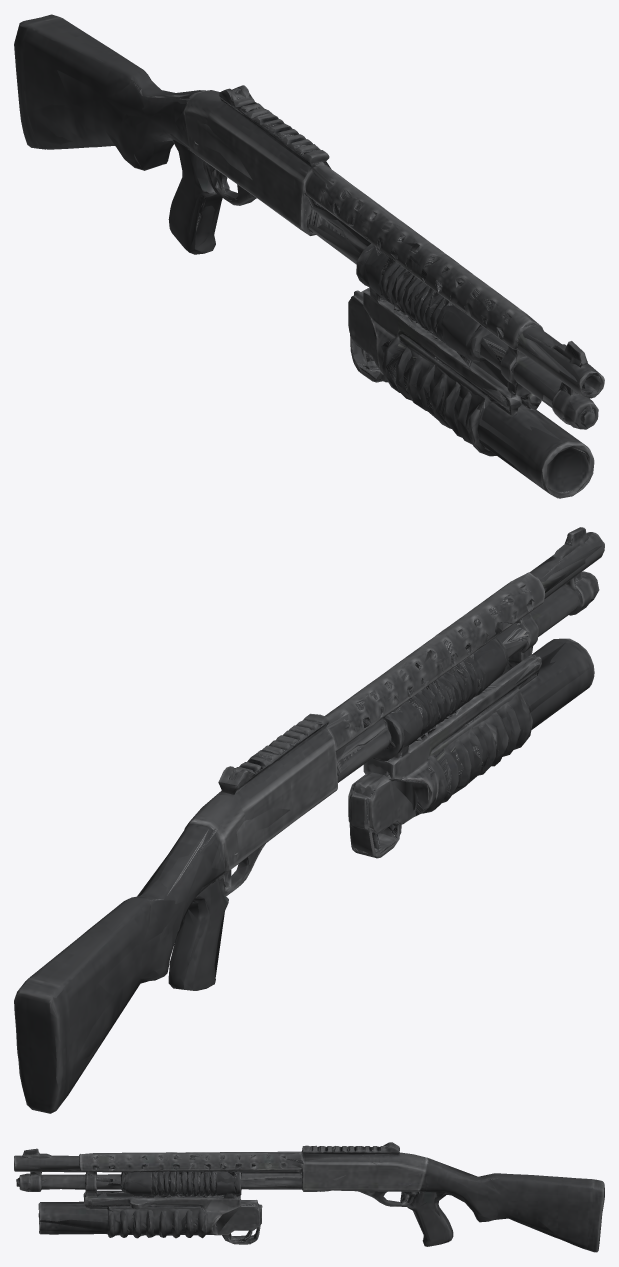
Rendered from vietnam_shotgun.glb.
3 views of the same model, one above another, from view 1: azimuth 30°, elevation 25°; view 2: azimuth 150°, elevation 25°; view 3: azimuth 270°, elevation 25° (orthographic). The views are drawn at different scales.
Visible parts, largest first — view 1: model, mesh_lod; view 2: model, mesh_lod; view 3: model, mesh_lod.
Boxes of the visible parts, left/top/right/bottom form: model: left=14, top=14, right=604, bottom=498; mesh_lod: left=26, top=21, right=601, bottom=498; model: left=14, top=527, right=604, bottom=1113; mesh_lod: left=18, top=529, right=602, bottom=1113; model: left=14, top=1142, right=604, bottom=1252; mesh_lod: left=16, top=1143, right=603, bottom=1251.
Bounding box in the file's own units: 0.0701 × 0.1976 × 1.
1 material, 1 textured.
